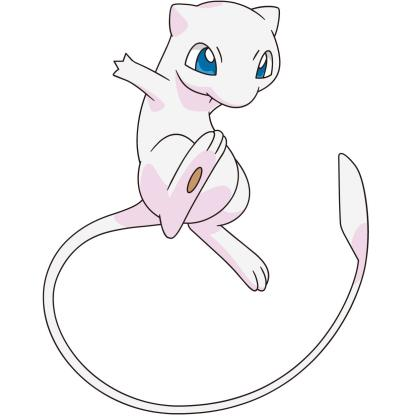Mew: (40, 1, 416, 416)
